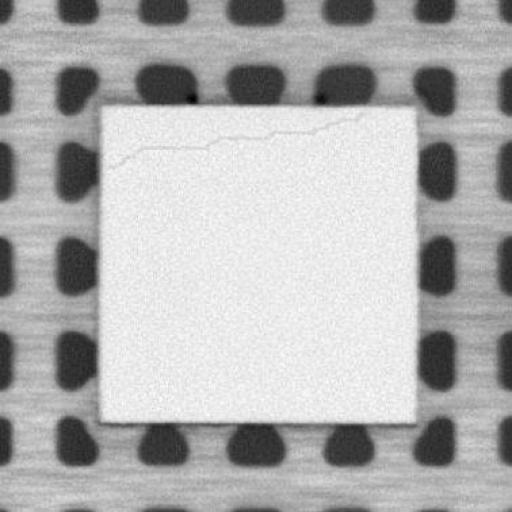DIE_CRACK: (104, 108, 367, 169)
